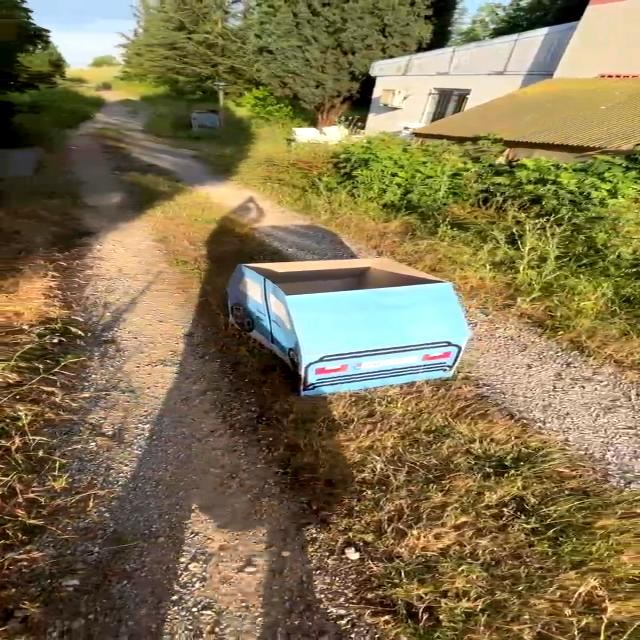blue_car: (184, 251, 503, 404)
